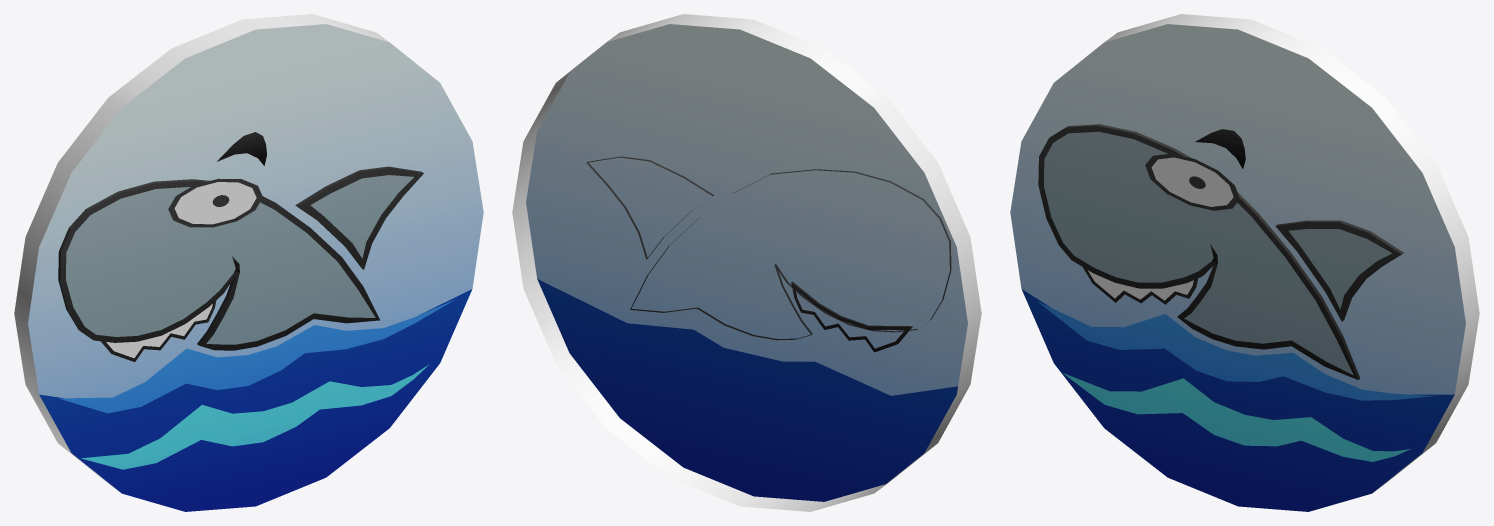
The model's file is Decor_treotuong_02.fbx.
3 renders of one model, left to right at view 1: azimuth 30°, elevation 25°; view 2: azimuth 150°, elevation 25°; view 3: azimuth 330°, elevation 25°, orthographic.
Visible parts, largest first — view 1: Decor_treotuong_02; view 2: Decor_treotuong_02; view 3: Decor_treotuong_02.
Part boxes in pixels (x1=…): Decor_treotuong_02: x1=14, y1=14, x2=483, y2=511; Decor_treotuong_02: x1=512, y1=14, x2=981, y2=511; Decor_treotuong_02: x1=1010, y1=14, x2=1479, y2=511.
Size of the model in its own units: 122 by 122 by 7.86.
